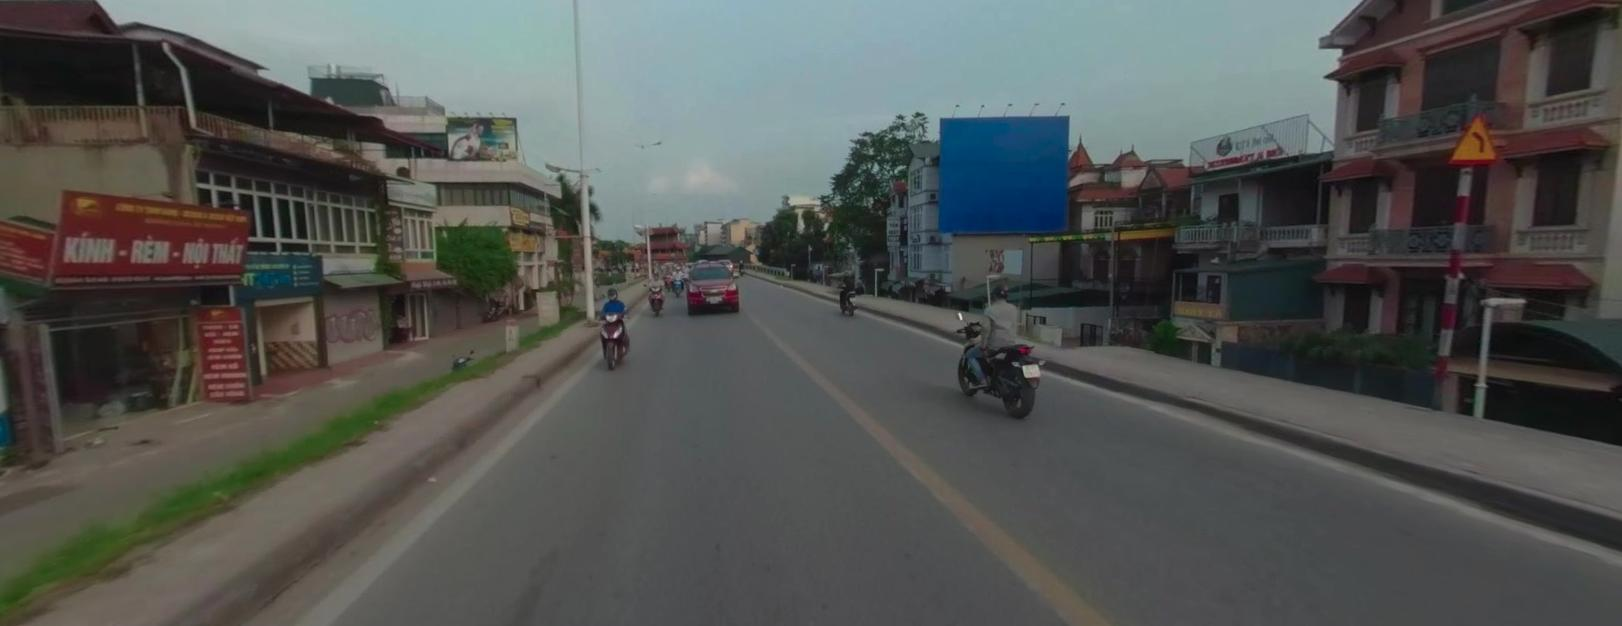Nguy hiem: (1450, 111, 1501, 163), (1450, 114, 1502, 163), (1449, 113, 1499, 163), (1448, 114, 1498, 163)
